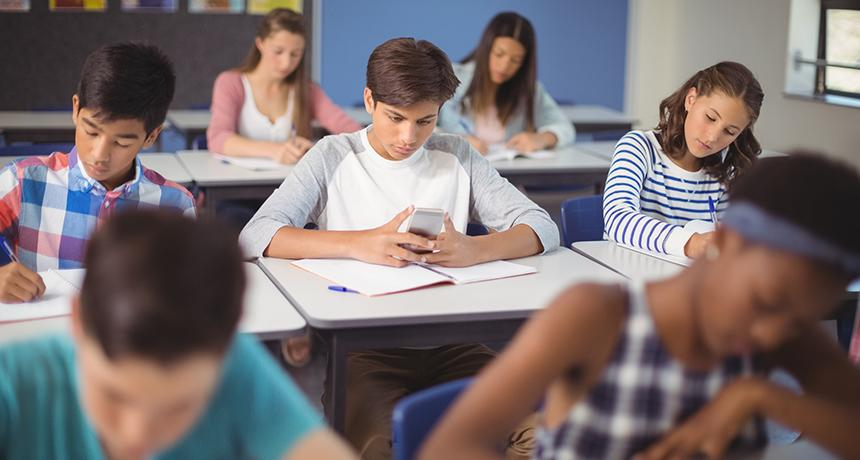phone: (248, 37, 556, 269)
study: (0, 46, 200, 290), (602, 62, 806, 247), (423, 12, 578, 167)
